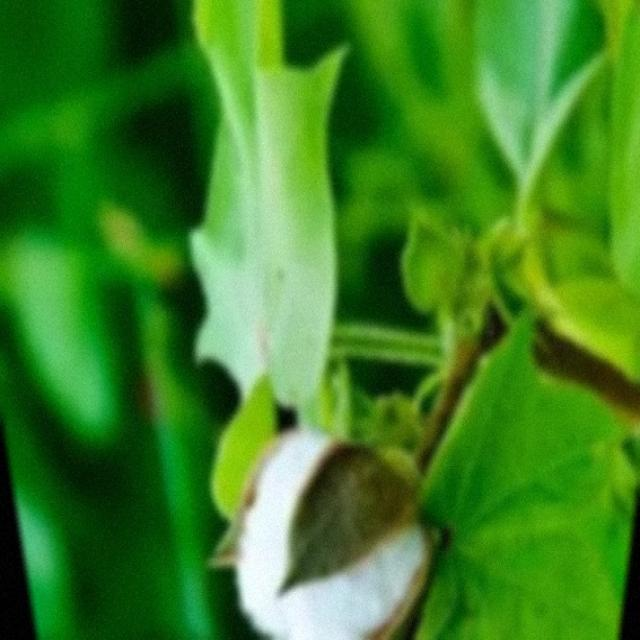Split Cotton Boll: (237, 421, 445, 640)
